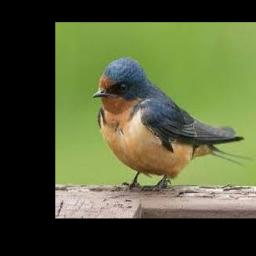Swallow: (92, 57, 252, 187)
